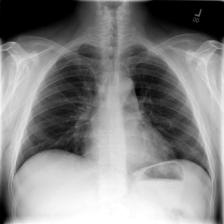normal: (8, 34, 218, 192)
